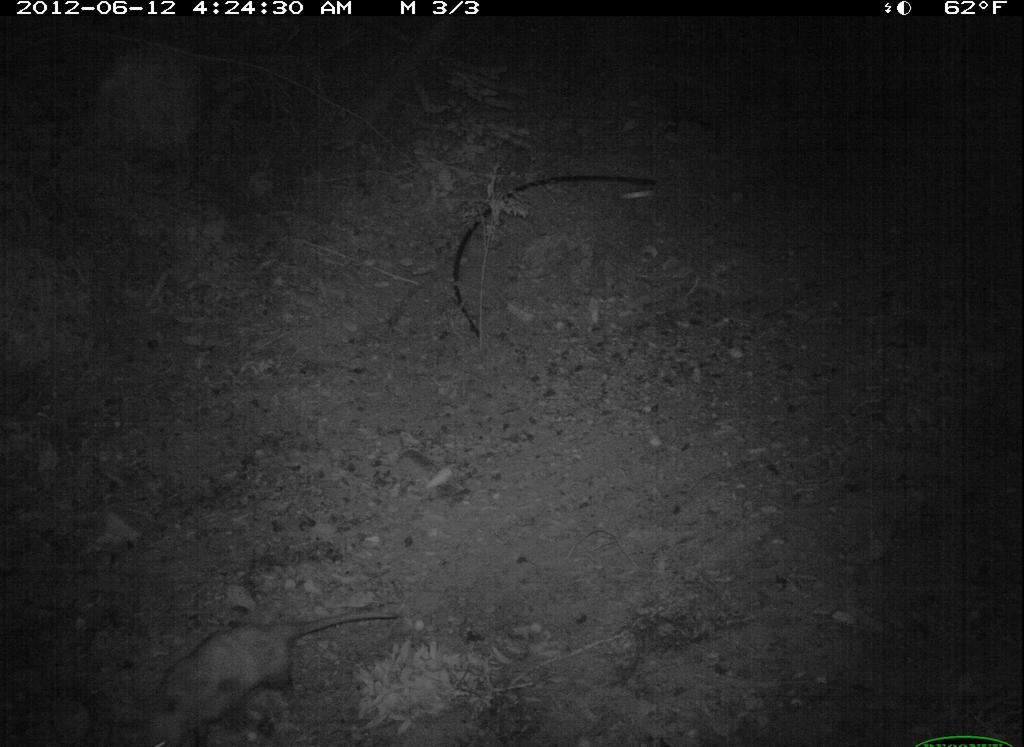opossum: (121, 601, 408, 744)
